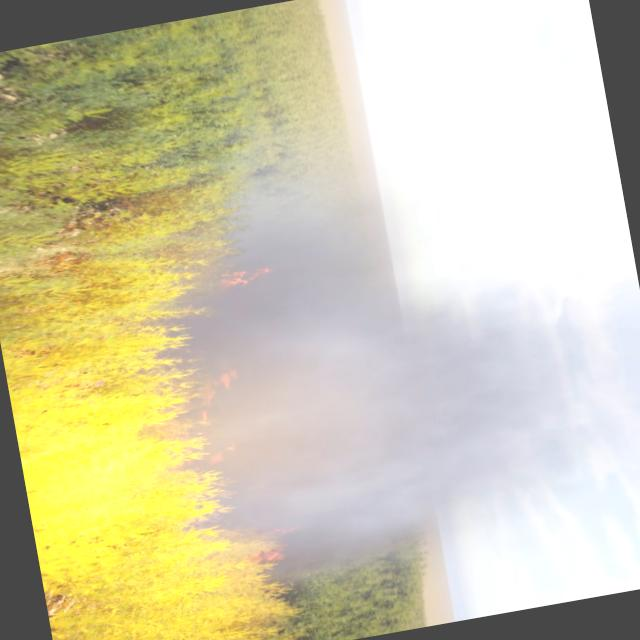fire: (1, 308, 291, 640), (166, 367, 258, 472), (241, 520, 308, 568), (215, 263, 274, 291)
smoke: (143, 132, 639, 629)
